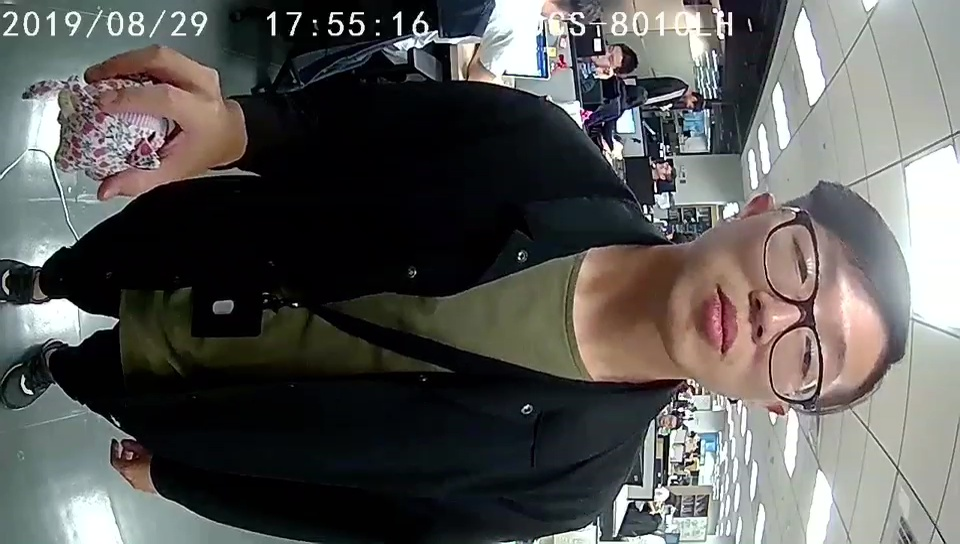pig: (53, 76, 169, 178)
